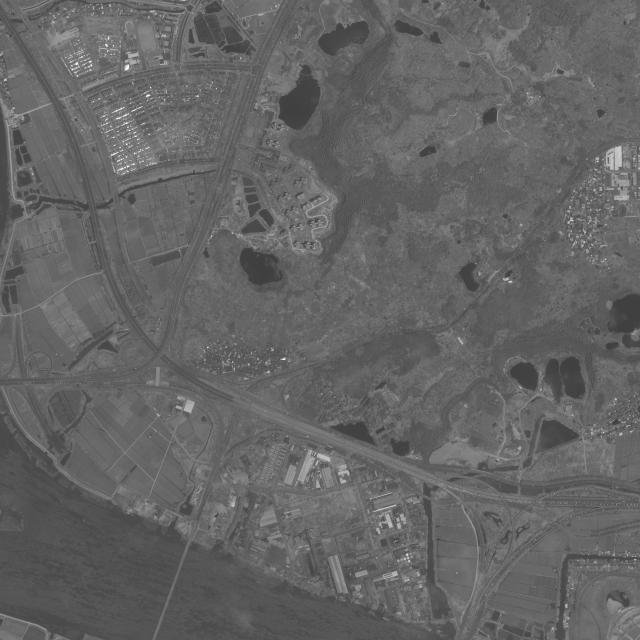ship: (125, 511, 136, 518), (83, 518, 92, 524), (381, 617, 389, 622), (368, 611, 376, 616), (59, 500, 65, 506), (83, 520, 90, 525), (286, 587, 294, 590), (256, 580, 261, 584), (385, 616, 390, 620), (370, 610, 375, 614)
storage-tank: (404, 560, 408, 564), (421, 548, 425, 552), (407, 560, 411, 563), (403, 557, 406, 561), (400, 558, 403, 562), (406, 557, 410, 560), (409, 552, 413, 555), (421, 552, 424, 556), (428, 614, 431, 617), (397, 559, 400, 562), (406, 553, 409, 556), (425, 617, 428, 620), (427, 611, 430, 614), (410, 556, 413, 559), (421, 556, 424, 559), (418, 530, 420, 533), (429, 618, 431, 620)
